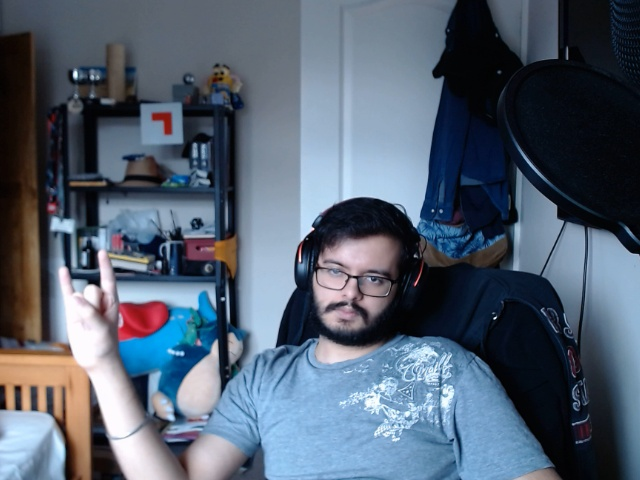Rock on: (58, 243, 130, 375)
